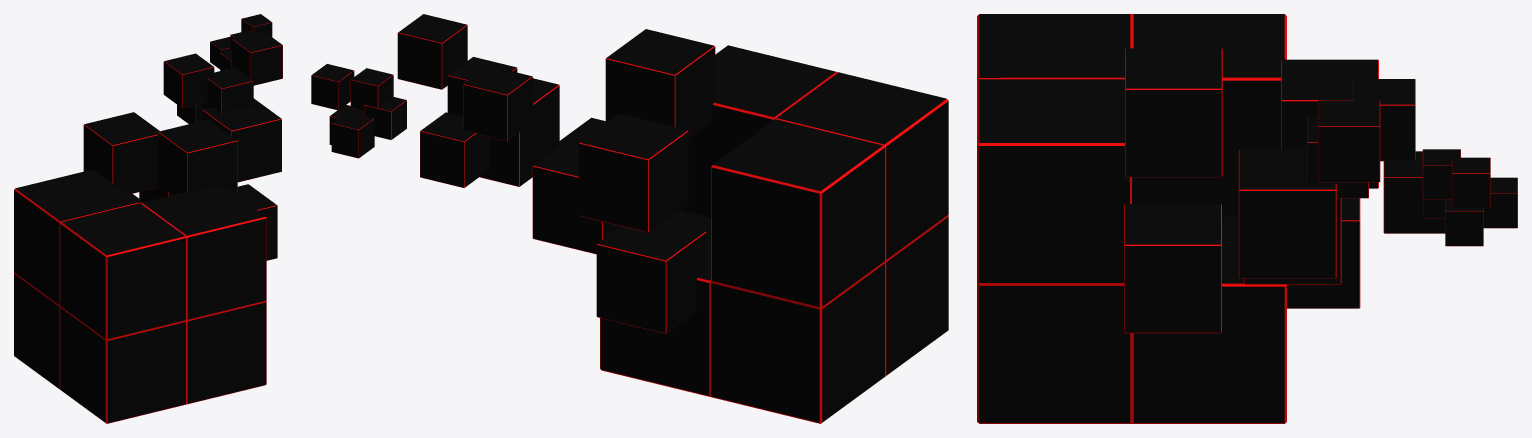
Rendered from decomposition_export.fbx.
3 views of the same model, side by side, from view 1: azimuth 30°, elevation 25°; view 2: azimuth 150°, elevation 25°; view 3: azimuth 270°, elevation 25° (orthographic). The views are drawn at different scales.
Parts seen in each view (by area): view 1: pCube1, pCube7, pCube6, pCube5, pCube10, pCube8, pCube9, pCube4, pCube16, pCube15, pCube11, pCube2; view 2: pCube1, pCube6, pCube3, pCube7, pCube2, pCube10, pCube8, pCube5, pCube11, pCube15, pCube16, pCube13 (+2 smaller); view 3: pCube1, pCube4, pCube7, pCube5, pCube8, pCube6, pCube3, pCube10, pCube11, pCube16, pCube13, pCube15 (+3 smaller).
Boxes of the visible parts, x1,y1,x2,y2 form: pCube1: (14, 169, 266, 423); pCube7: (158, 119, 237, 194); pCube6: (83, 112, 159, 194); pCube5: (202, 98, 281, 182); pCube10: (163, 53, 214, 108); pCube8: (232, 31, 282, 85); pCube9: (203, 67, 253, 113); pCube4: (235, 184, 277, 260); pCube16: (241, 14, 272, 36); pCube15: (210, 37, 230, 69); pCube11: (177, 103, 203, 123); pCube2: (139, 170, 172, 202); pCube1: (600, 45, 948, 423); pCube6: (579, 113, 688, 232); pCube3: (596, 221, 706, 333); pCube7: (605, 29, 715, 137); pCube2: (532, 136, 620, 254); pCube10: (463, 66, 532, 141); pCube8: (397, 14, 467, 89); pCube5: (479, 78, 559, 186); pCube11: (420, 112, 489, 187); pCube15: (331, 112, 374, 158); pCube16: (311, 64, 354, 110); pCube13: (350, 68, 393, 111); pCube1: (977, 14, 1286, 423); pCube4: (1124, 204, 1221, 333); pCube7: (1125, 48, 1222, 177); pCube5: (1238, 149, 1336, 278); pCube8: (1318, 100, 1380, 182); pCube6: (1281, 59, 1378, 188); pCube3: (1287, 198, 1360, 308); pCube10: (1353, 79, 1415, 161); pCube11: (1383, 151, 1445, 233); pCube16: (1452, 157, 1490, 207); pCube13: (1422, 149, 1460, 199); pCube15: (1483, 177, 1517, 228).
Size of the model in its own units: 13.84 by 10.14 by 12.6.
